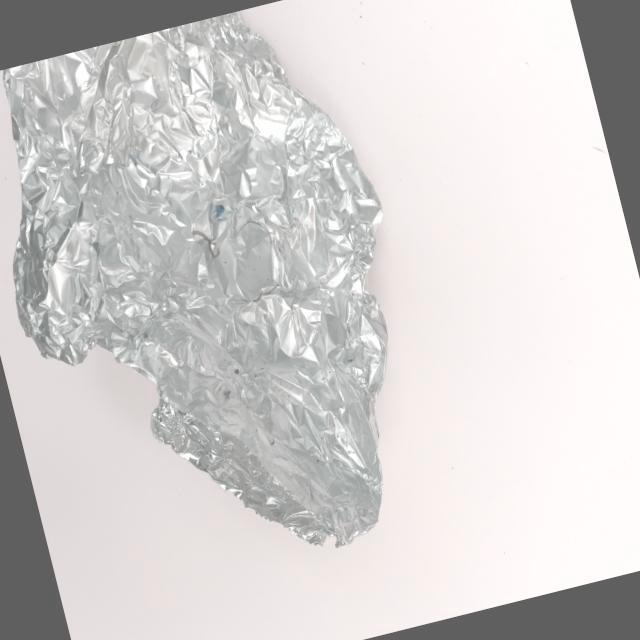metal: (0, 0, 477, 636)
